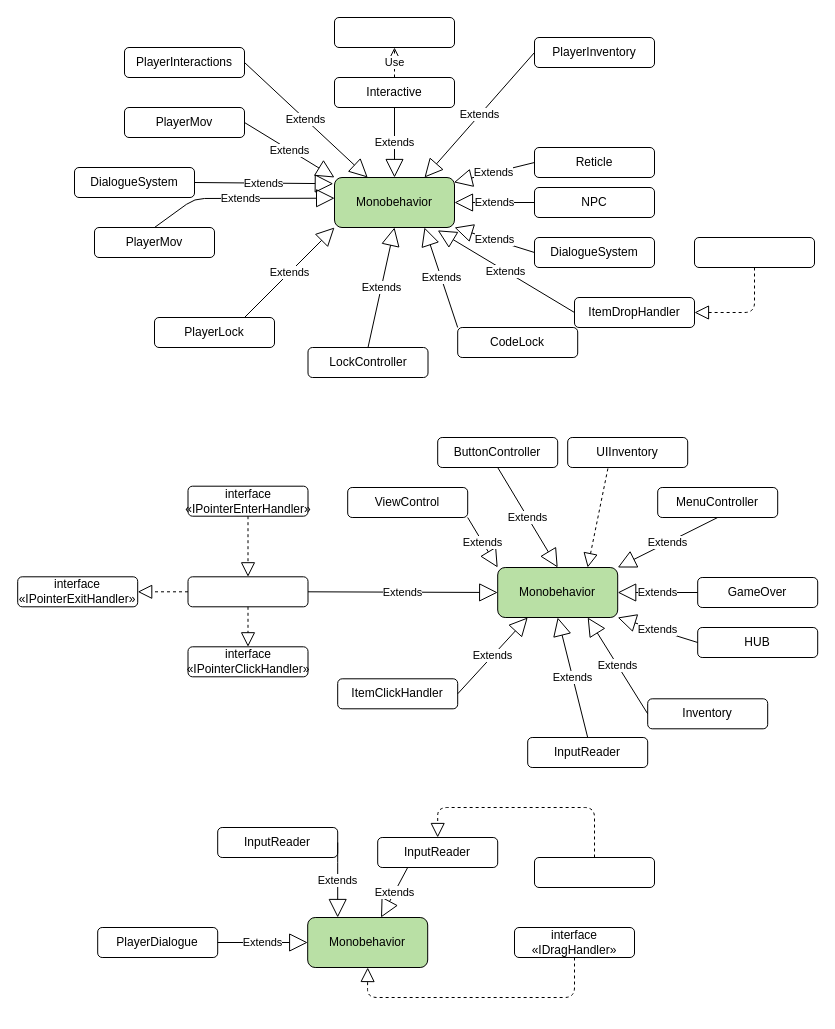
Image size: 835x1029. Some labels were removed from this diagram. The centre of each missing label's shape, as x and y in pixels:
Enum InteractiveType: the point at 394,32
interface «IDropHandler»: the point at 754,252
interface «IEndDragHandler»: the point at 594,872
UIItem: the point at 247,591
